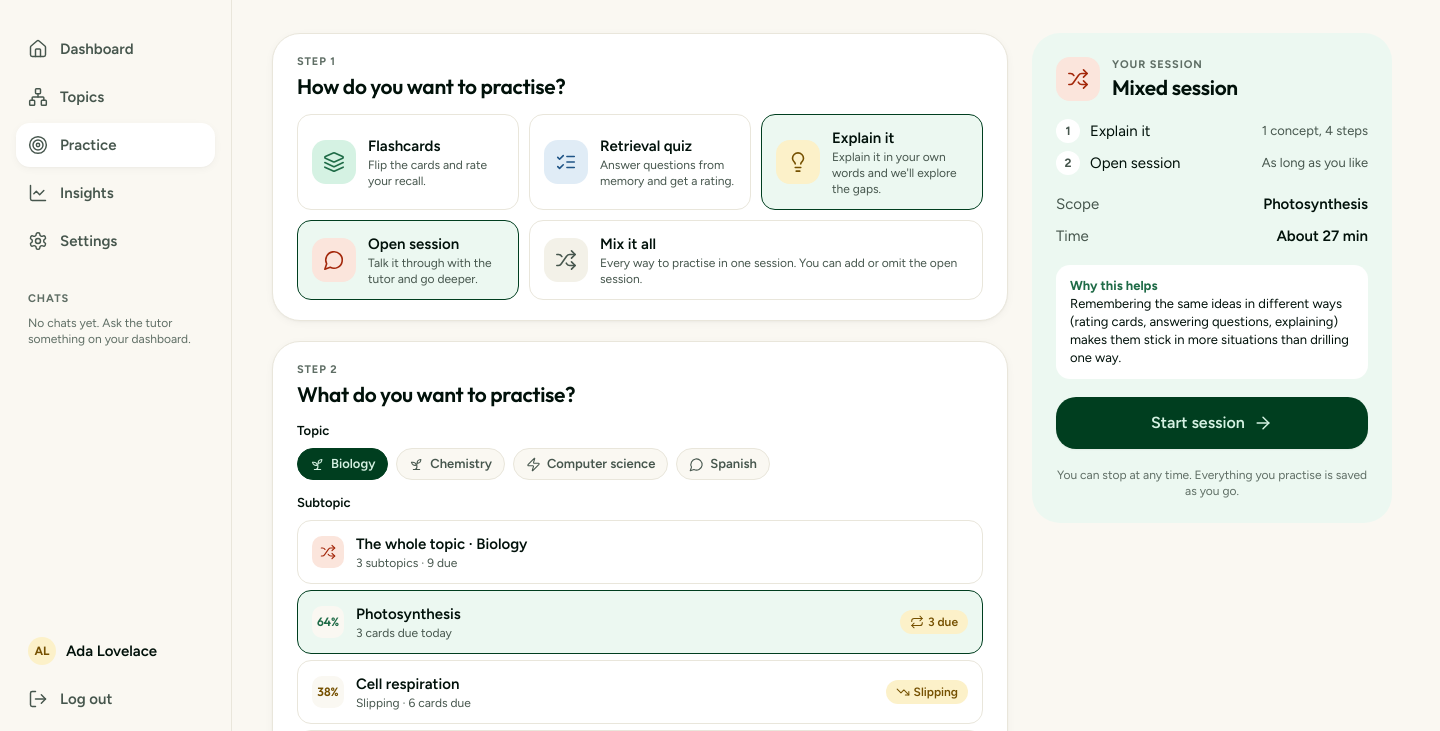
Scenario: PracticeSetupView › only asks how much when flashcards or the quiz is on
The width and height of the screenshot is (1440, 731).
Click the button with test id "mode-cards" at (408, 162), box x1=297 y1=114 x2=519 y2=210
(page scrolled)
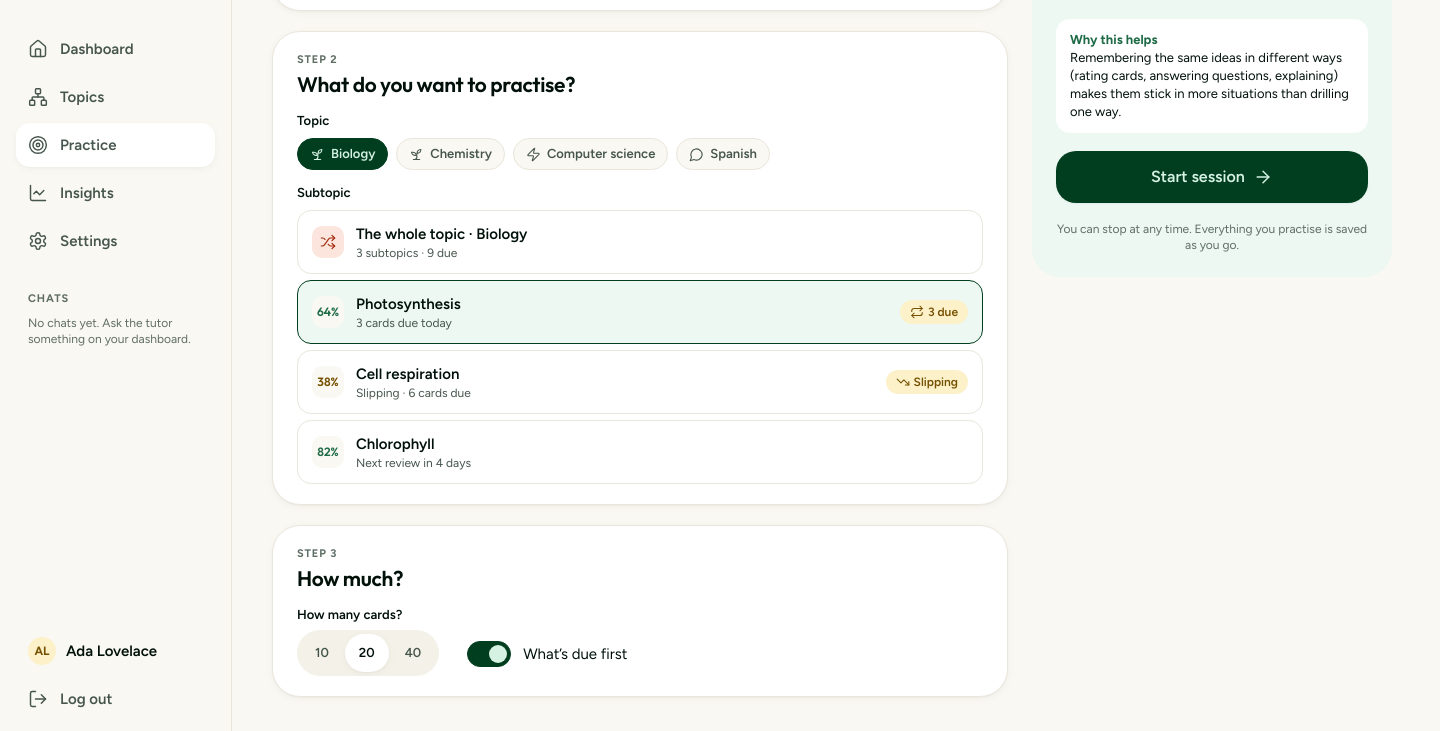
Expected: the element with test id "step-amount" is shown, x1=272 y1=525 x2=1008 y2=697
